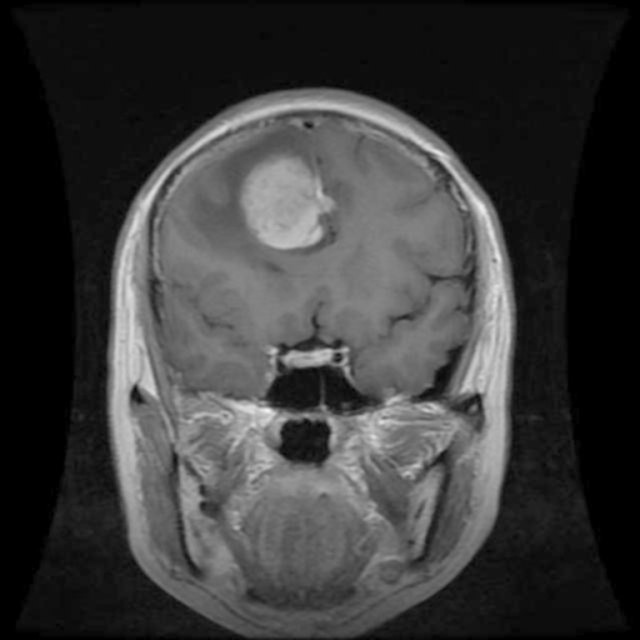meningioma tumor: (232, 138, 332, 256)
